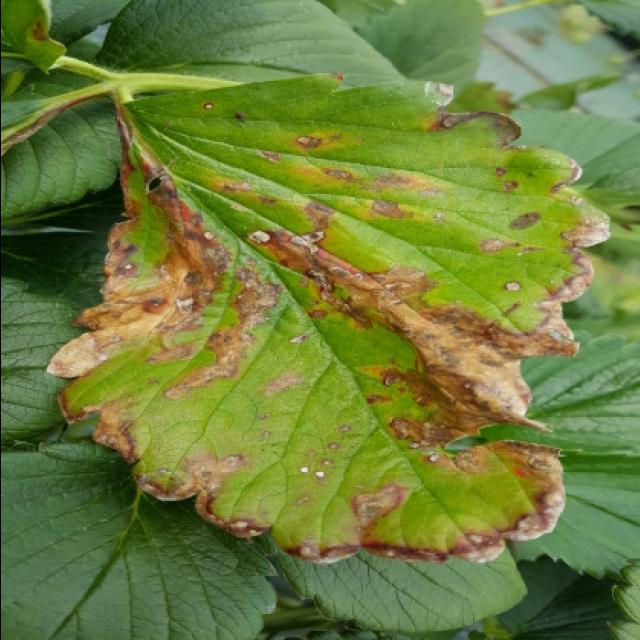Angular Leafspot: (42, 70, 613, 567), (2, 82, 107, 157), (30, 24, 58, 46)
